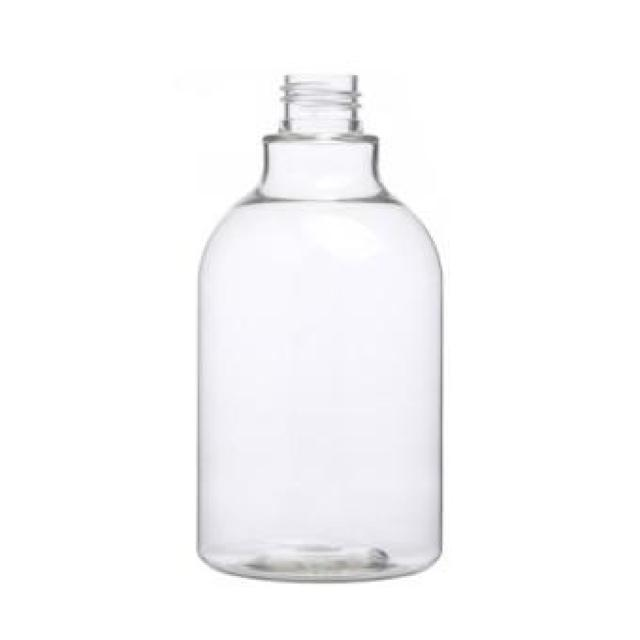bottle: (198, 69, 442, 582)
